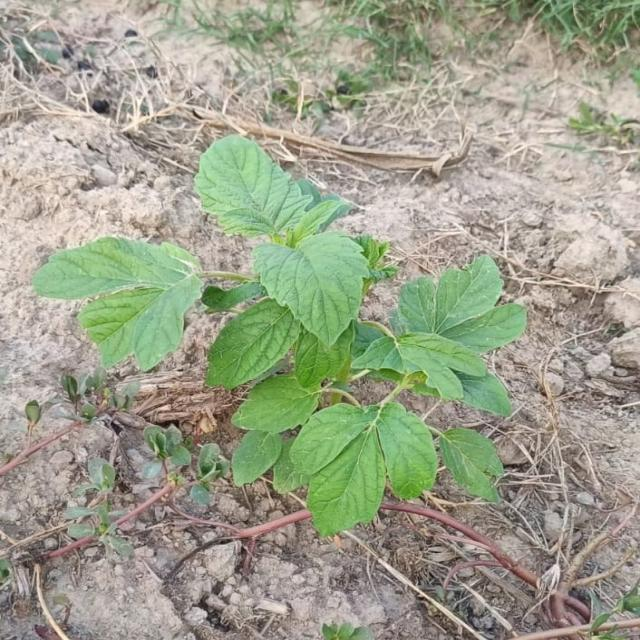plant: (33, 135, 527, 536)
